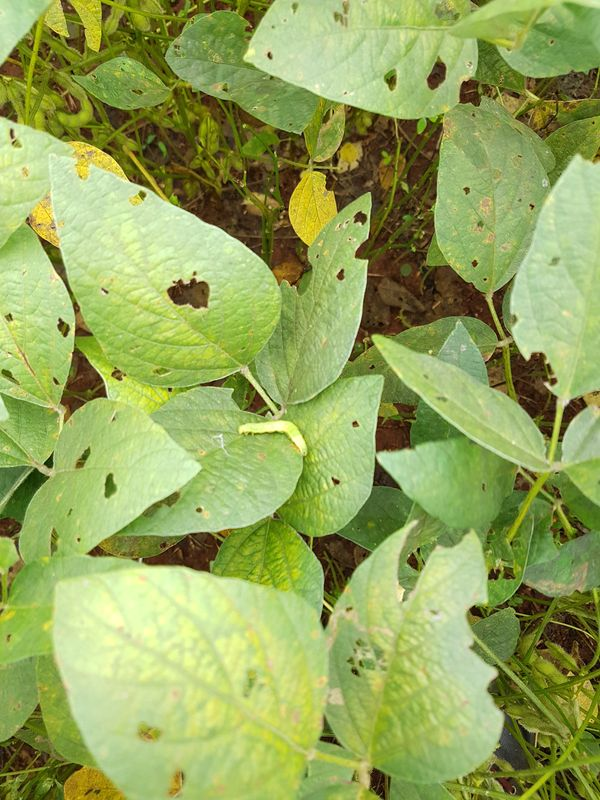Anticarsia_gemmatalis: (229, 406, 320, 477)
